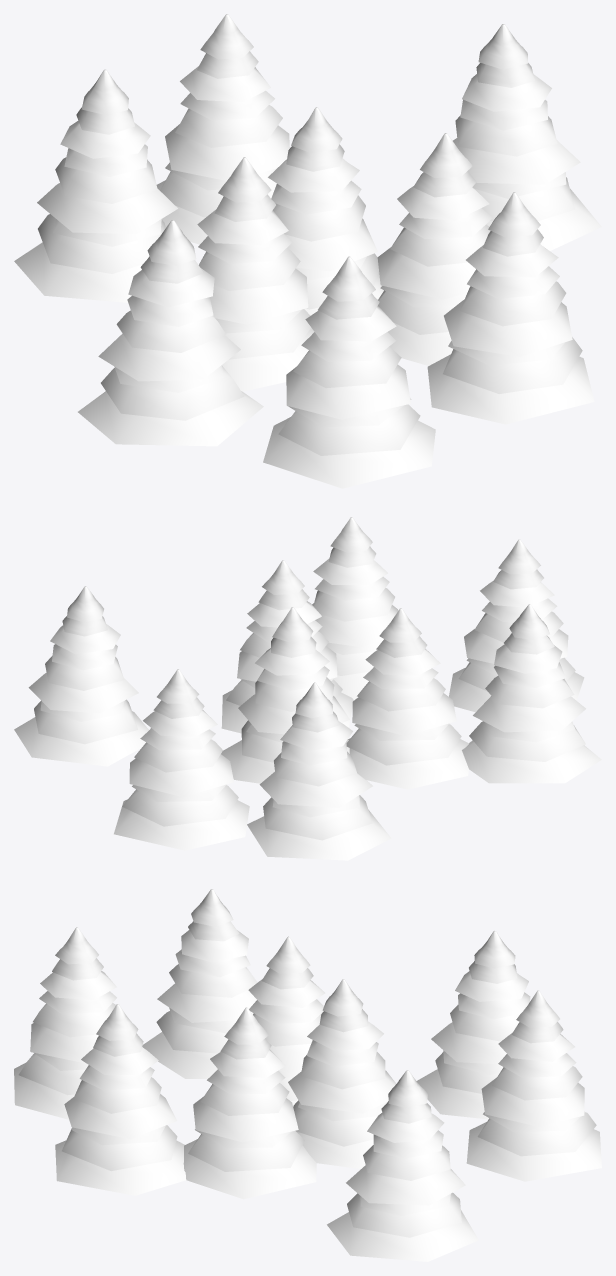
Rendered from Sugi Grass.fbx.
The picture shows the model from 3 angles, top to bottom: view 1: azimuth 30°, elevation 25°; view 2: azimuth 150°, elevation 25°; view 3: azimuth 270°, elevation 25°; orthographic projection. The views are drawn at different scales.
Parts seen in each view (by area): view 1: 杉の木A9; view 2: 杉の木A9; view 3: 杉の木A9.
Part boxes in pixels (bbox=[...]): 杉の木A9: bbox=[14, 14, 601, 488]; 杉の木A9: bbox=[14, 517, 601, 860]; 杉の木A9: bbox=[14, 889, 601, 1261].
Size of the model in its own units: 143 by 43.76 by 146.
Materials: 1 (1 with a texture image).
